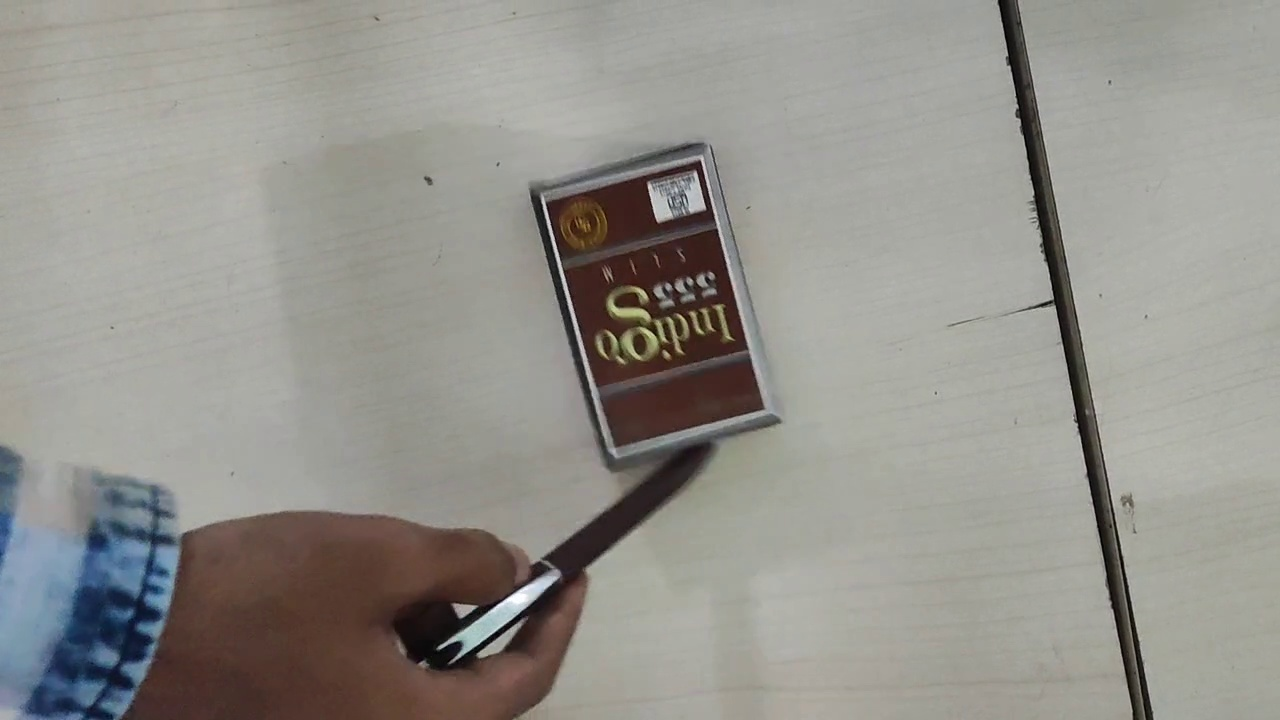BEX: (540, 154, 768, 453)
